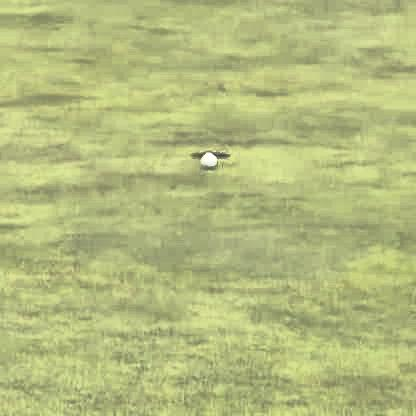golfball: (198, 149, 216, 167)
